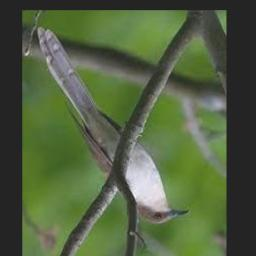Cuckoo: (38, 27, 190, 225)
